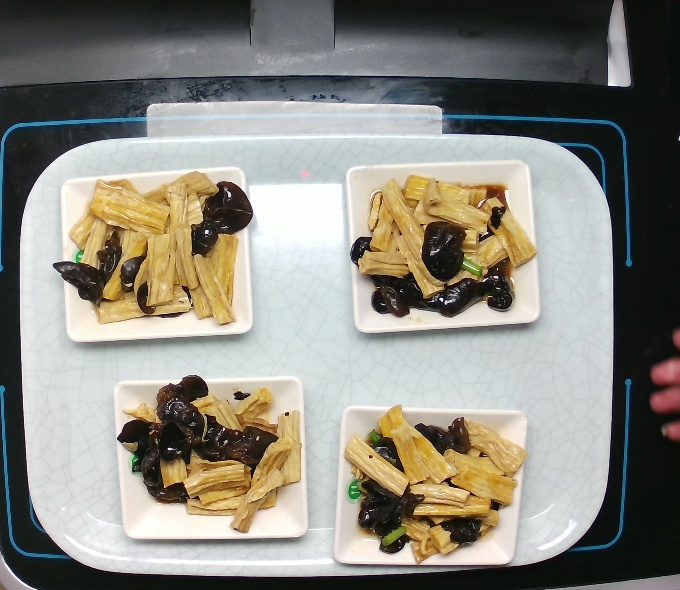wcq-MuErFuZhu: (51, 162, 255, 336), (114, 371, 310, 537), (348, 163, 543, 326), (343, 400, 531, 567)
